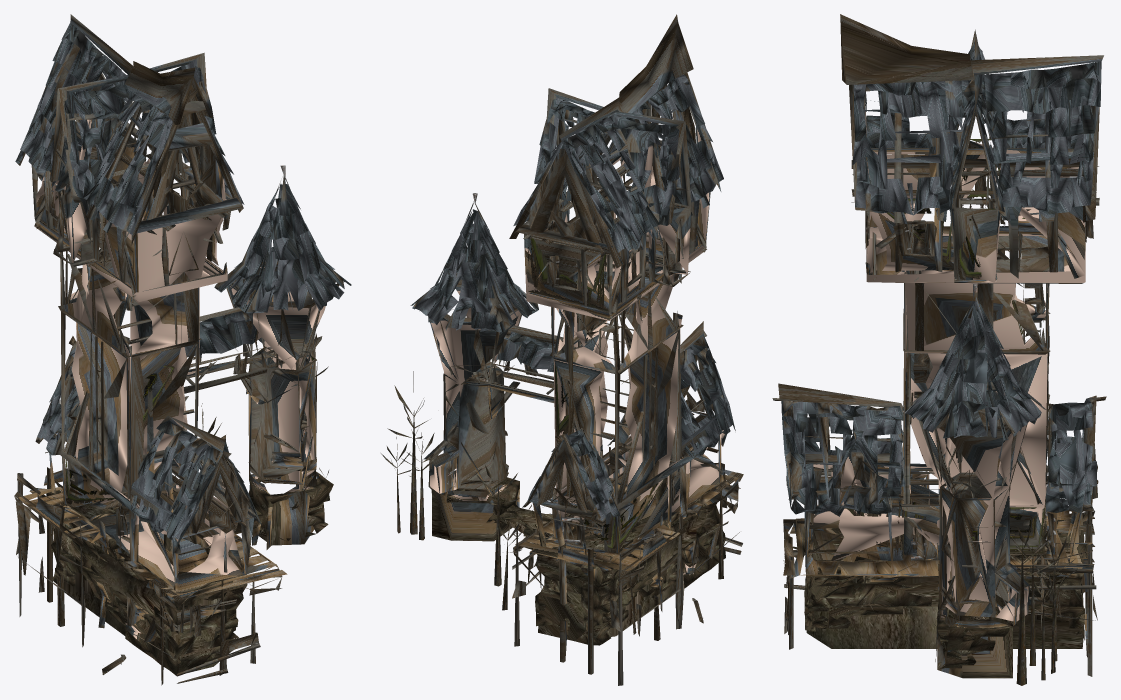
Rendered from fantasyhouse.glb.
3 views of the same model, side by side, from view 1: azimuth 30°, elevation 25°; view 2: azimuth 150°, elevation 25°; view 3: azimuth 270°, elevation 25° (orthographic). The views are drawn at different scales.
Visible parts, largest first — view 1: FOOR_OUTSIDE_low_poly, LIANE; view 2: FOOR_OUTSIDE_low_poly, TREE_5_low_poly, LIANE; view 3: FOOR_OUTSIDE_low_poly, TREE_5_low_poly, LIANE.
Part boxes in pixels (<box>): FOOR_OUTSIDE_low_poly: <box>14,14,351,685</box>; LIANE: <box>65,273,315,504</box>; FOOR_OUTSIDE_low_poly: <box>410,14,743,685</box>; TREE_5_low_poly: <box>381,371,533,610</box>; LIANE: <box>528,238,663,551</box>; FOOR_OUTSIDE_low_poly: <box>772,14,1106,678</box>; TREE_5_low_poly: <box>867,507,1077,685</box>; LIANE: <box>817,139,1047,558</box>.
Size of the model in its own units: 10 by 20.46 by 9.5.
Materials: 3 (3 with a texture image).
